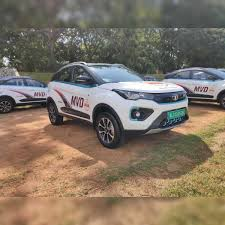Tata Nexon: (45, 58, 190, 149)
